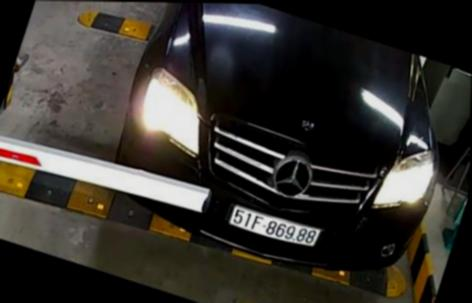License_Plate: (222, 198, 331, 255)
